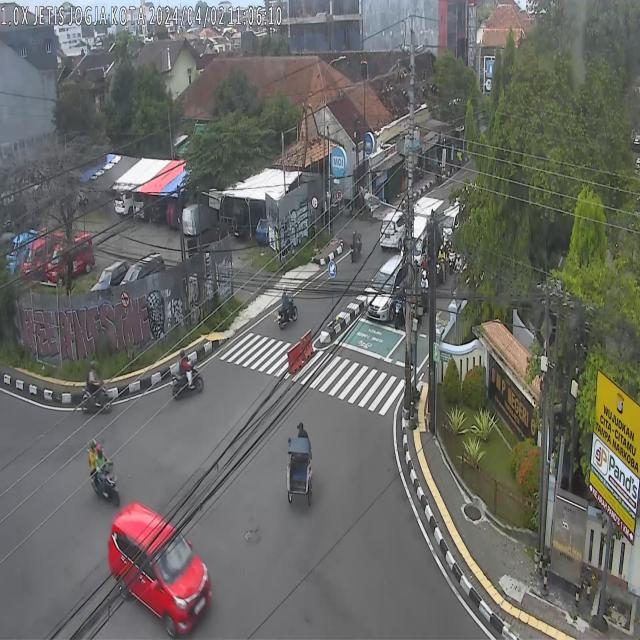car: (108, 501, 211, 637), (366, 254, 408, 324), (380, 211, 408, 250), (443, 206, 460, 244)
motorcycle: (89, 436, 119, 505), (170, 347, 204, 401), (81, 360, 113, 415), (276, 286, 298, 330), (393, 284, 406, 329), (350, 230, 362, 264), (436, 245, 446, 284), (448, 243, 457, 274)
truck: (401, 197, 443, 267)
